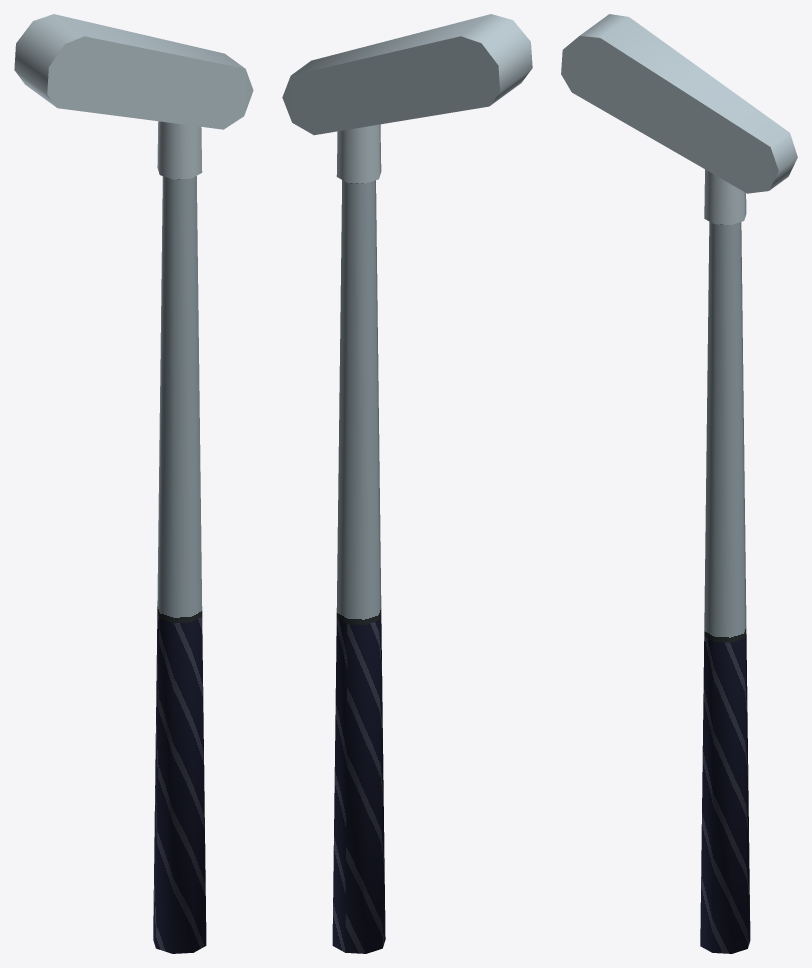
Rendered from club_putter.glb.
3 renders of one model, left to right at view 1: azimuth 30°, elevation 25°; view 2: azimuth 150°, elevation 25°; view 3: azimuth 330°, elevation 25°, orthographic. The views are drawn at different scales.
Parts seen in each view (by area): view 1: polygon0.006, polygon1.006; view 2: polygon0.006, polygon1.006; view 3: polygon0.006, polygon1.006.
Boxes of the visible parts, bbox=[...] form: polygon0.006: bbox=[14, 14, 253, 623]; polygon1.006: bbox=[153, 612, 206, 953]; polygon0.006: bbox=[282, 14, 532, 624]; polygon1.006: bbox=[332, 614, 385, 953]; polygon0.006: bbox=[561, 14, 797, 642]; polygon1.006: bbox=[700, 632, 750, 953].
Size of the model in its own units: 0.0167 by 0.0697 by 0.00459.
2 materials, 2 textured.
